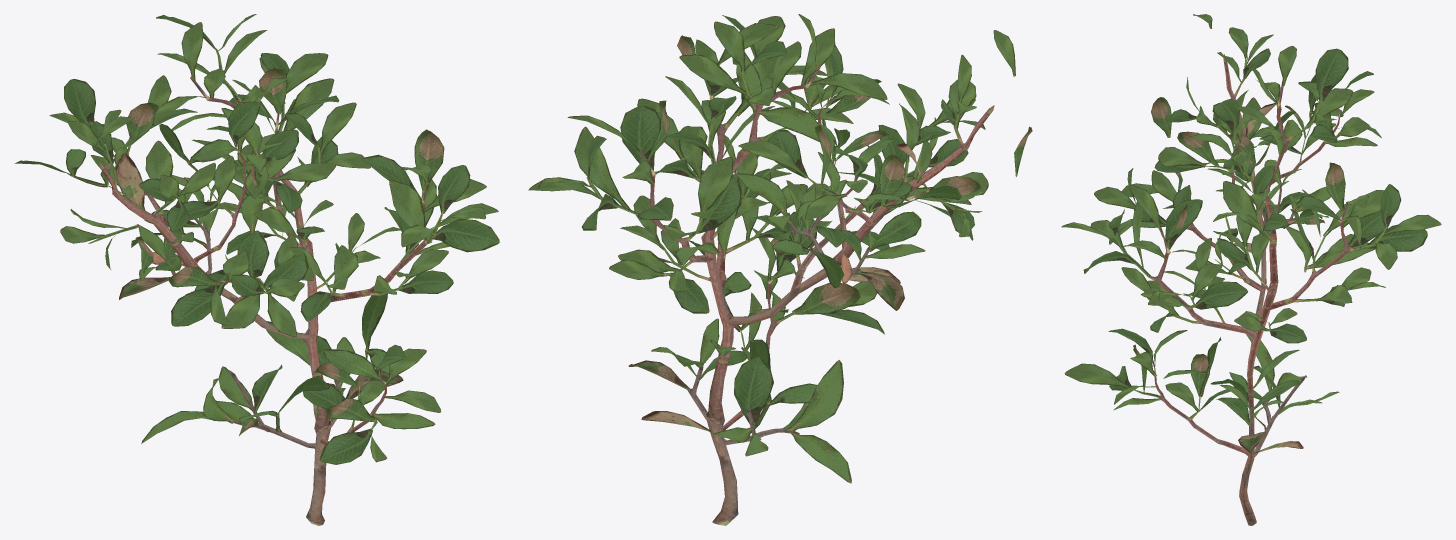
The model's file is rooted-berries-clear-depleted.glb.
3 views of the same model, side by side, from view 1: azimuth 30°, elevation 25°; view 2: azimuth 150°, elevation 25°; view 3: azimuth 270°, elevation 25° (orthographic). The views are drawn at different scales.
Visible parts, largest first — view 1: rooted-berries-clear-depleted runtime mesh; view 2: rooted-berries-clear-depleted runtime mesh; view 3: rooted-berries-clear-depleted runtime mesh.
Part boxes in pixels (box(x1,y1,x2,y2)): rooted-berries-clear-depleted runtime mesh: box(14, 14, 499, 525); rooted-berries-clear-depleted runtime mesh: box(528, 14, 1032, 525); rooted-berries-clear-depleted runtime mesh: box(1061, 14, 1441, 525).
Bounding box in the file's own units: 0.8407 × 1.05 × 0.8253.
Materials: 1 (1 with a texture image).
